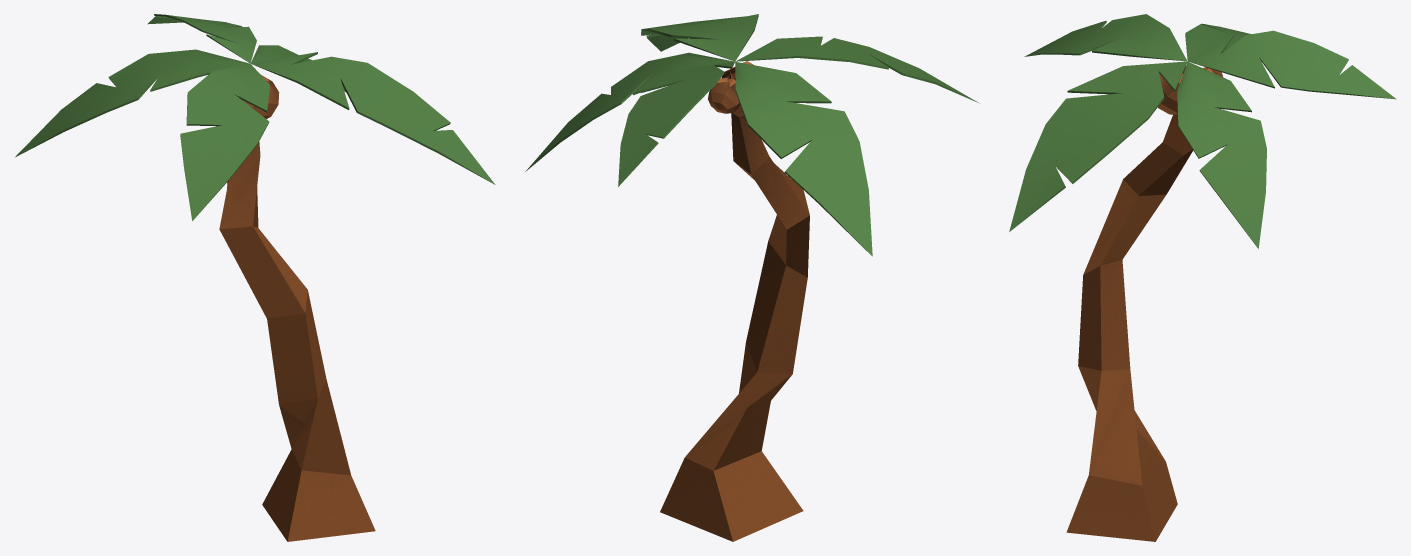
The model's file is TreeModel_2.fbx.
3 renders of one model, left to right at view 1: azimuth 30°, elevation 25°; view 2: azimuth 150°, elevation 25°; view 3: azimuth 270°, elevation 25°, orthographic. The views are drawn at different scales.
Parts seen in each view (by area): view 1: pSphere9; view 2: pSphere9; view 3: pSphere9.
Boxes of the visible parts, bbox=[...] form: pSphere9: bbox=[15, 14, 495, 541]; pSphere9: bbox=[525, 14, 979, 541]; pSphere9: bbox=[1009, 14, 1396, 541].
Size of the model in its own units: 4.14 by 5.38 by 4.13.
